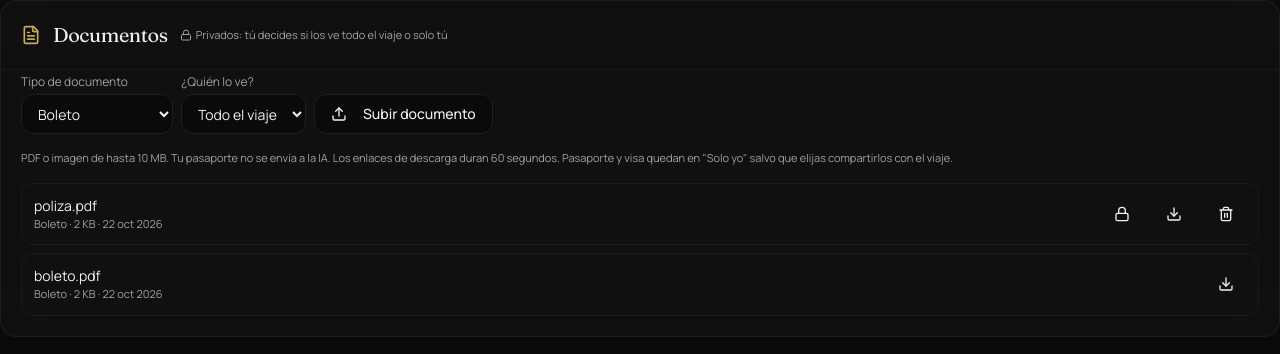
Scenario: Documentos del viaje › borra solo quien lo subió o el dueño, con confirmación (archivo y fila)
Check: the text "poliza.pdf" is shown, box [34,196,97,214]
Click the button named "Borrar poliza.pdf".
click(1226, 214)  # box [1206,196,1246,232]
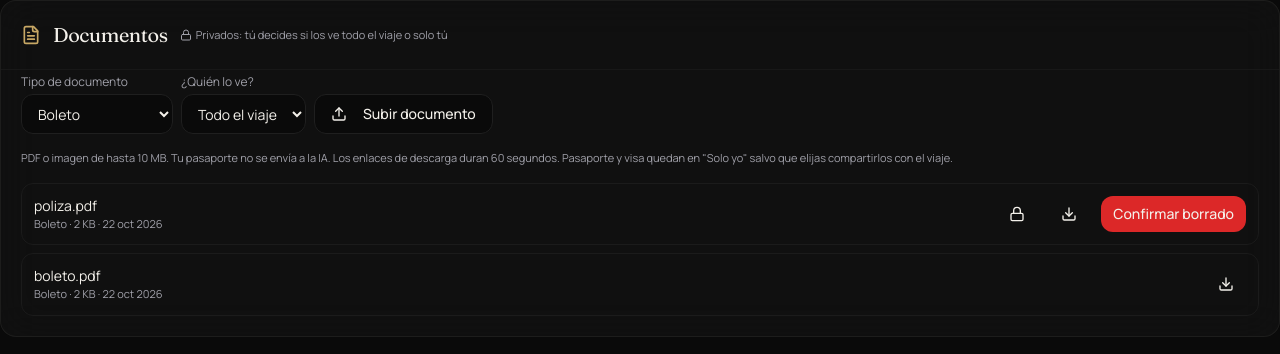
Click the button "Confirmar borrado".
click(1174, 214)  # box [1101,196,1246,232]
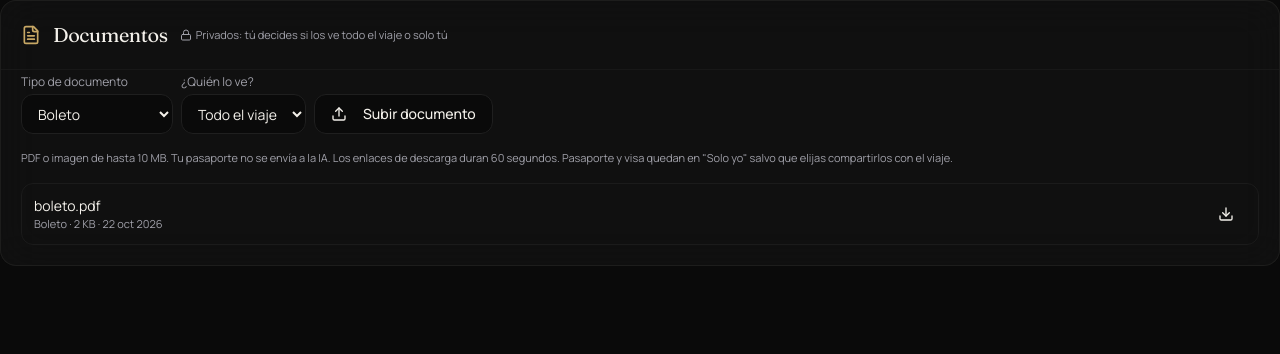
Check: the text "poliza.pdf" is gone
